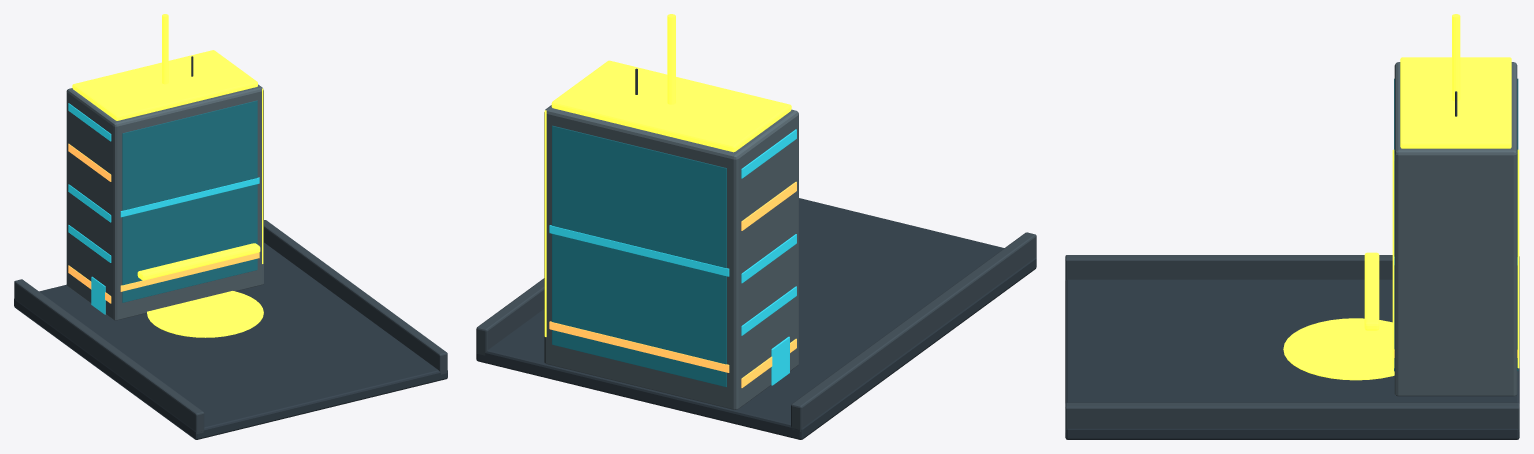
File: destination_lod0.glb
3 views of the same model, side by side, from view 1: azimuth 30°, elevation 25°; view 2: azimuth 150°, elevation 25°; view 3: azimuth 270°, elevation 25° (orthographic). The views are drawn at different scales.
Visible parts, largest first — view 1: ND_Batch_ND_RooftopMetal, ND_Batch_ND_DarkGlass, ND_Batch_ND_CityConcreteLight, ND_Batch_ND_PackageGold, ND_Batch_ND_CityConcrete, ND_Batch_ND_NeonGlass, ND_Batch_ND_WarmWindow; view 2: ND_Batch_ND_DarkGlass, ND_Batch_ND_RooftopMetal, ND_Batch_ND_CityConcreteLight, ND_Batch_ND_PackageGold, ND_Batch_ND_CityConcrete, ND_Batch_ND_NeonGlass, ND_Batch_ND_WarmWindow; view 3: ND_Batch_ND_RooftopMetal, ND_Batch_ND_CityConcreteLight, ND_Batch_ND_CityConcrete, ND_Batch_ND_PackageGold, ND_Batch_ND_DarkGlass.
Boxes of the visible parts, x1=… form: ND_Batch_ND_RooftopMetal: x1=14, y1=56, x2=447, y2=439; ND_Batch_ND_DarkGlass: x1=122, y1=100, x2=257, y2=302; ND_Batch_ND_CityConcreteLight: x1=66, y1=84, x2=263, y2=320; ND_Batch_ND_PackageGold: x1=72, y1=14, x2=263, y2=337; ND_Batch_ND_CityConcrete: x1=14, y1=220, x2=447, y2=434; ND_Batch_ND_NeonGlass: x1=68, y1=103, x2=259, y2=314; ND_Batch_ND_WarmWindow: x1=68, y1=143, x2=259, y2=303; ND_Batch_ND_DarkGlass: x1=552, y1=125, x2=726, y2=387; ND_Batch_ND_RooftopMetal: x1=476, y1=68, x2=1036, y2=439; ND_Batch_ND_CityConcreteLight: x1=544, y1=105, x2=798, y2=409; ND_Batch_ND_PackageGold: x1=544, y1=14, x2=791, y2=336; ND_Batch_ND_CityConcrete: x1=476, y1=232, x2=1036, y2=432; ND_Batch_ND_NeonGlass: x1=549, y1=129, x2=796, y2=385; ND_Batch_ND_WarmWindow: x1=549, y1=181, x2=796, y2=387; ND_Batch_ND_RooftopMetal: x1=1065, y1=91, x2=1519, y2=439; ND_Batch_ND_CityConcreteLight: x1=1394, y1=62, x2=1517, y2=396; ND_Batch_ND_CityConcrete: x1=1065, y1=255, x2=1519, y2=432; ND_Batch_ND_PackageGold: x1=1283, y1=14, x2=1519, y2=380; ND_Batch_ND_DarkGlass: x1=1394, y1=78, x2=1518, y2=371.
Bounding box in the file's own units: 16 × 16.93 × 20.
